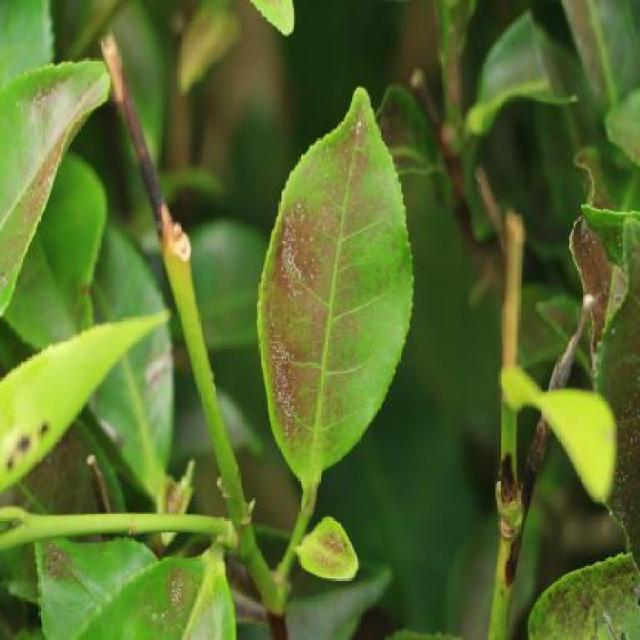Red Spider infested tea leaf: (232, 117, 400, 528), (543, 268, 640, 635)
